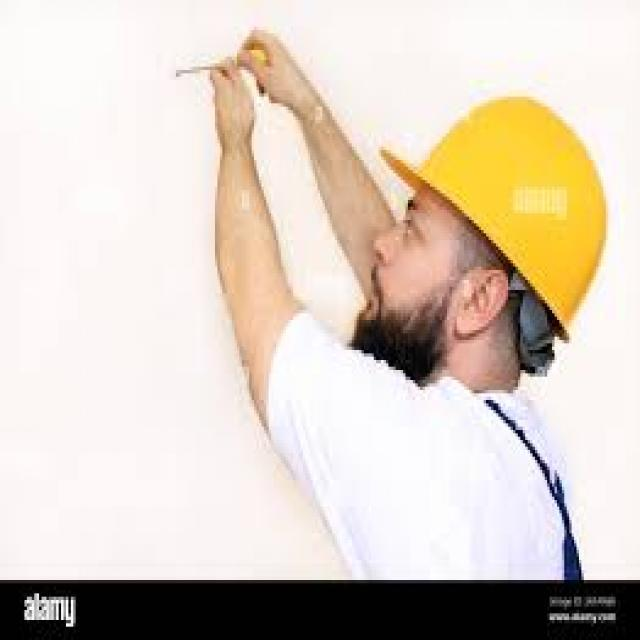screwdriver: (158, 36, 280, 94)
